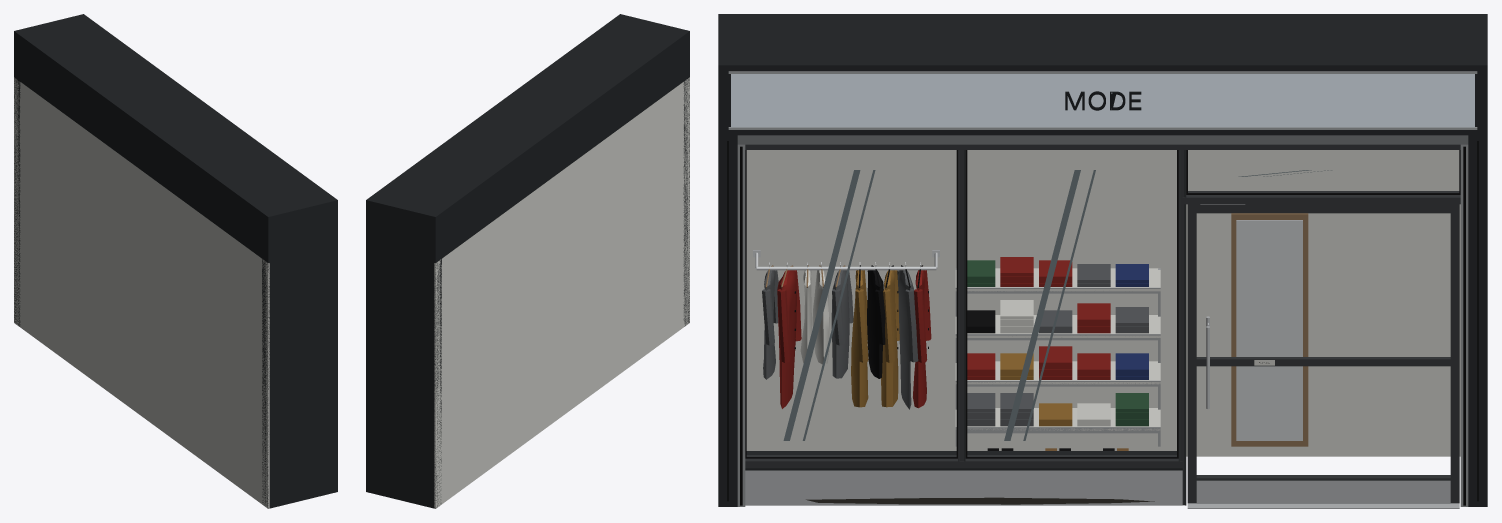
Rendered from storefront_c.glb.
3 views of the same model, side by side, from view 1: azimuth 30°, elevation 25°; view 2: azimuth 150°, elevation 25°; view 3: azimuth 270°, elevation 25° (orthographic). The views are drawn at different scales.
Parts seen in each view (by area): view 1: laden_c_0, laden_c_1; view 2: laden_c_0, laden_c_1; view 3: laden_c_0, laden_c_1, laden_c_9, laden_c_4, laden_c_3, laden_c_13, laden_c_16, laden_c_15, laden_c_10, laden_c_8, laden_c_19, laden_c_5 (+10 smaller).
Part boxes in pixels (x1=…): laden_c_0: x1=14, y1=77, x2=269, y2=508; laden_c_1: x1=14, y1=14, x2=337, y2=508; laden_c_0: x1=434, y1=77, x2=689, y2=508; laden_c_1: x1=366, y1=14, x2=689, y2=508; laden_c_0: x1=746, y1=150, x2=1460, y2=456; laden_c_1: x1=718, y1=14, x2=1487, y2=506; laden_c_9: x1=731, y1=74, x2=1474, y2=127; laden_c_4: x1=745, y1=144, x2=1460, y2=505; laden_c_3: x1=745, y1=316, x2=1459, y2=508; laden_c_13: x1=753, y1=220, x2=1302, y2=440; laden_c_16: x1=777, y1=257, x2=1110, y2=408; laden_c_15: x1=762, y1=264, x2=1148, y2=426; laden_c_10: x1=728, y1=71, x2=1477, y2=446; laden_c_8: x1=737, y1=135, x2=1468, y2=144; laden_c_19: x1=851, y1=270, x2=1072, y2=426; laden_c_5: x1=783, y1=170, x2=1332, y2=440.
Size of the model in its own units: 0.98 by 3.8 by 6.
